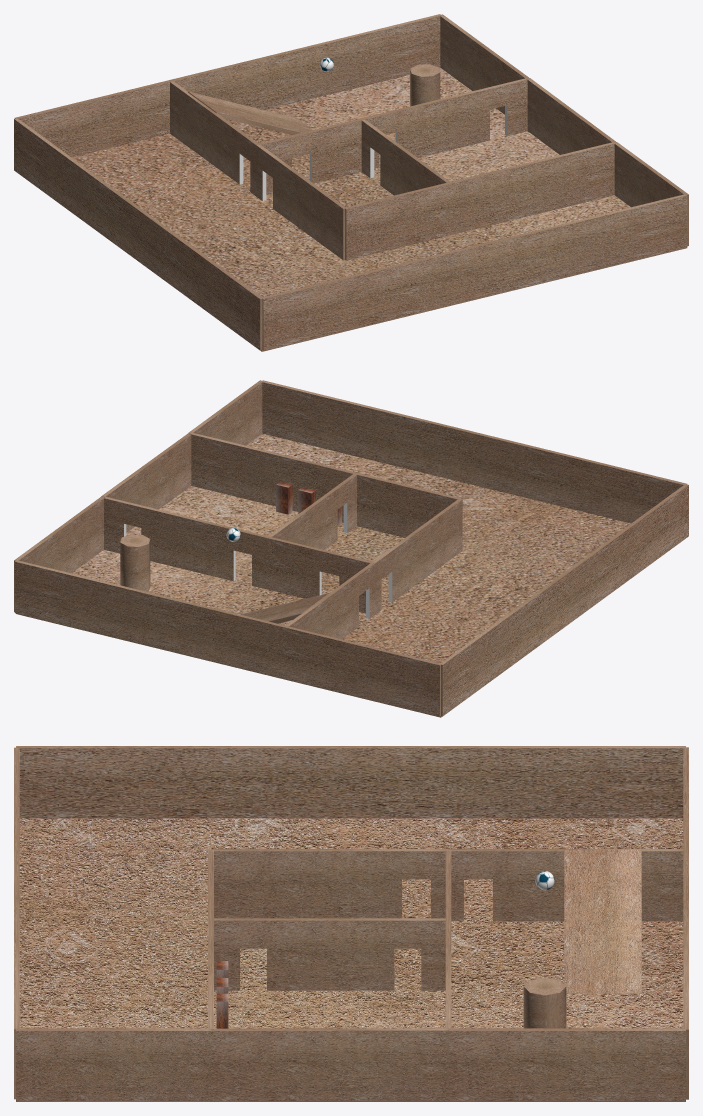
Rendered from main.gltf.
The picture shows the model from 3 angles, top to bottom: view 1: azimuth 30°, elevation 25°; view 2: azimuth 150°, elevation 25°; view 3: azimuth 270°, elevation 25°; orthographic projection. The views are drawn at different scales.
Visible parts, largest first — view 1: CSGCombiner3D2, ground2; view 2: CSGCombiner3D2, ground2; view 3: CSGCombiner3D2, ground2.
Boxes of the visible parts, x1,y1,x2,y2 form: CSGCombiner3D2: (14, 14, 688, 350); ground2: (71, 67, 687, 351); CSGCombiner3D2: (14, 380, 688, 716); ground2: (16, 433, 630, 717); CSGCombiner3D2: (14, 746, 688, 1101); ground2: (16, 818, 685, 1101).
Size of the model in its own units: 3.49 by 0.7148 by 3.5.
Materials: 6 (3 with a texture image).
